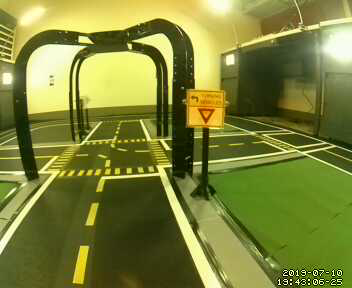Turn Yield: (186, 87, 225, 131)
